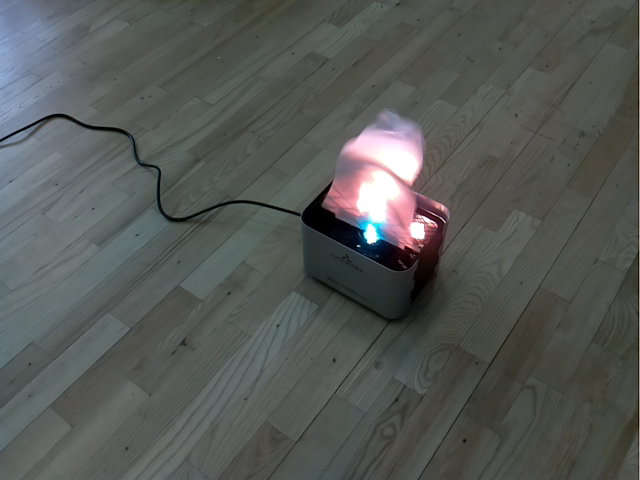fire: (320, 111, 424, 249)
